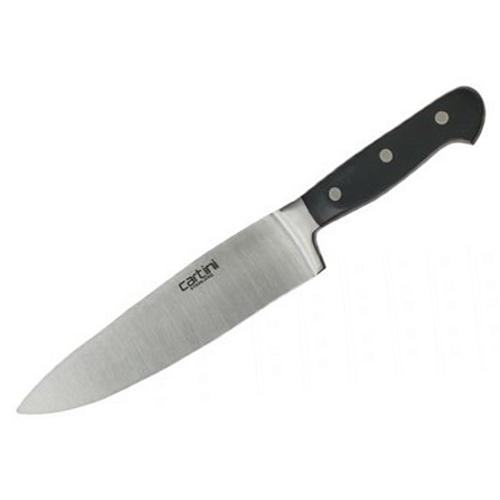knife: (18, 86, 486, 415)
